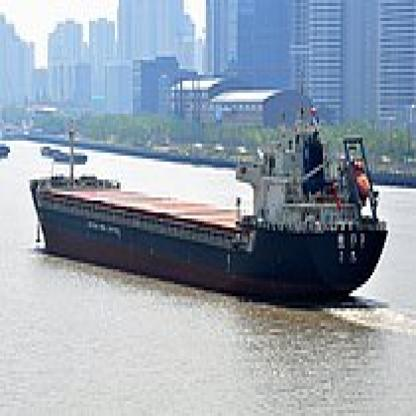Tanker: (33, 194, 373, 291)
